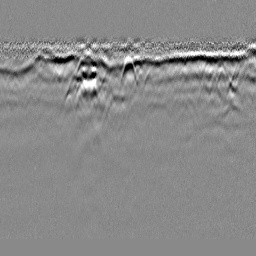cavity: (120, 55, 138, 87)
